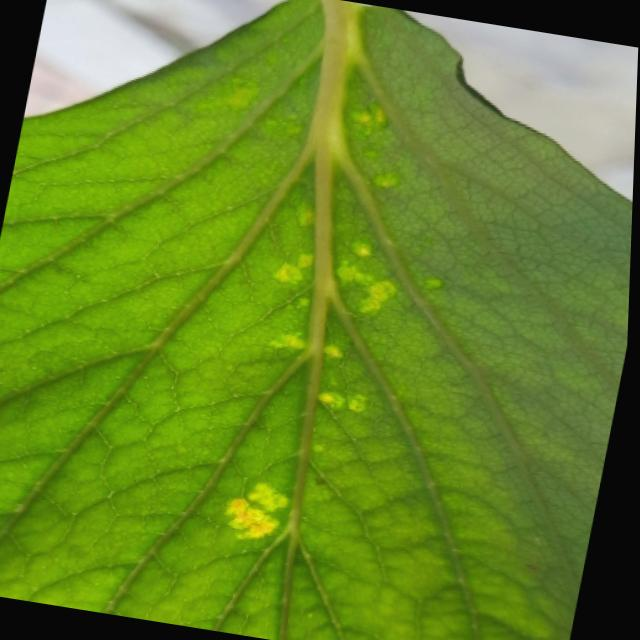Angular Leafspot: (210, 81, 451, 640)
